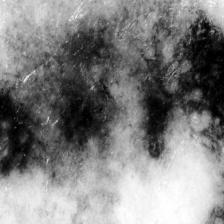Benign Marking or Mole: (8, 45, 224, 151)
